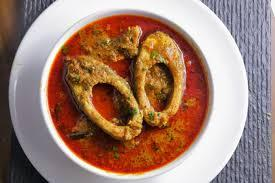Fish Curry: (58, 26, 195, 157)
